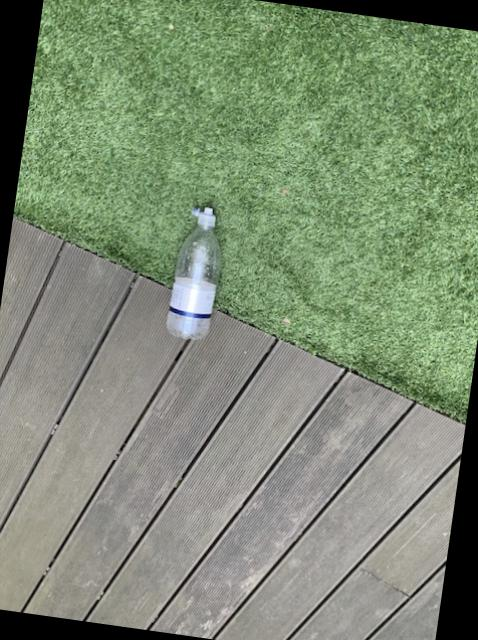plastic: (167, 208, 220, 340)
